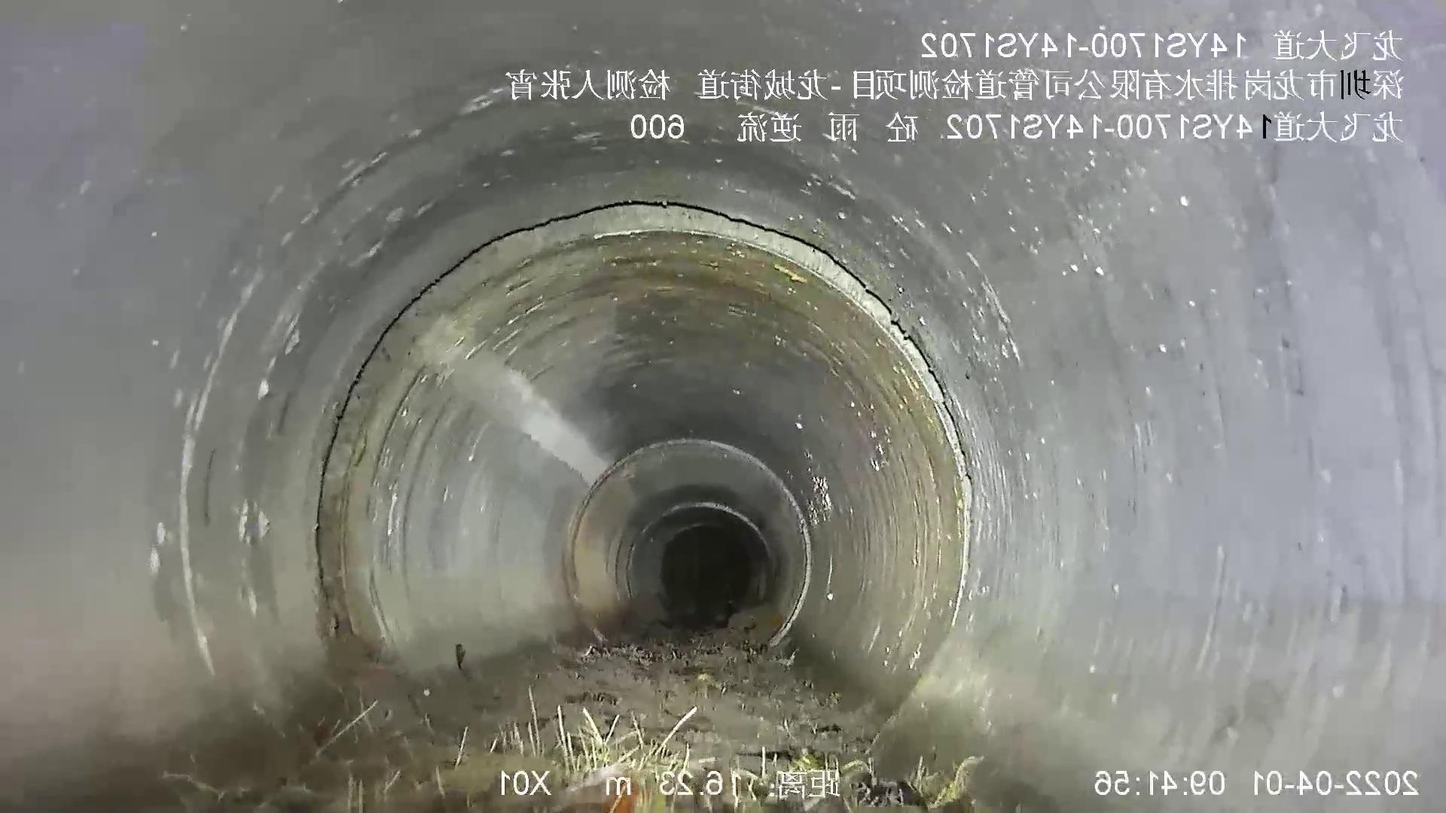CJ: (171, 610, 930, 812)
CKTJ: (315, 202, 972, 643), (565, 435, 815, 648), (642, 501, 768, 549), (798, 558, 811, 604), (801, 534, 810, 556)
